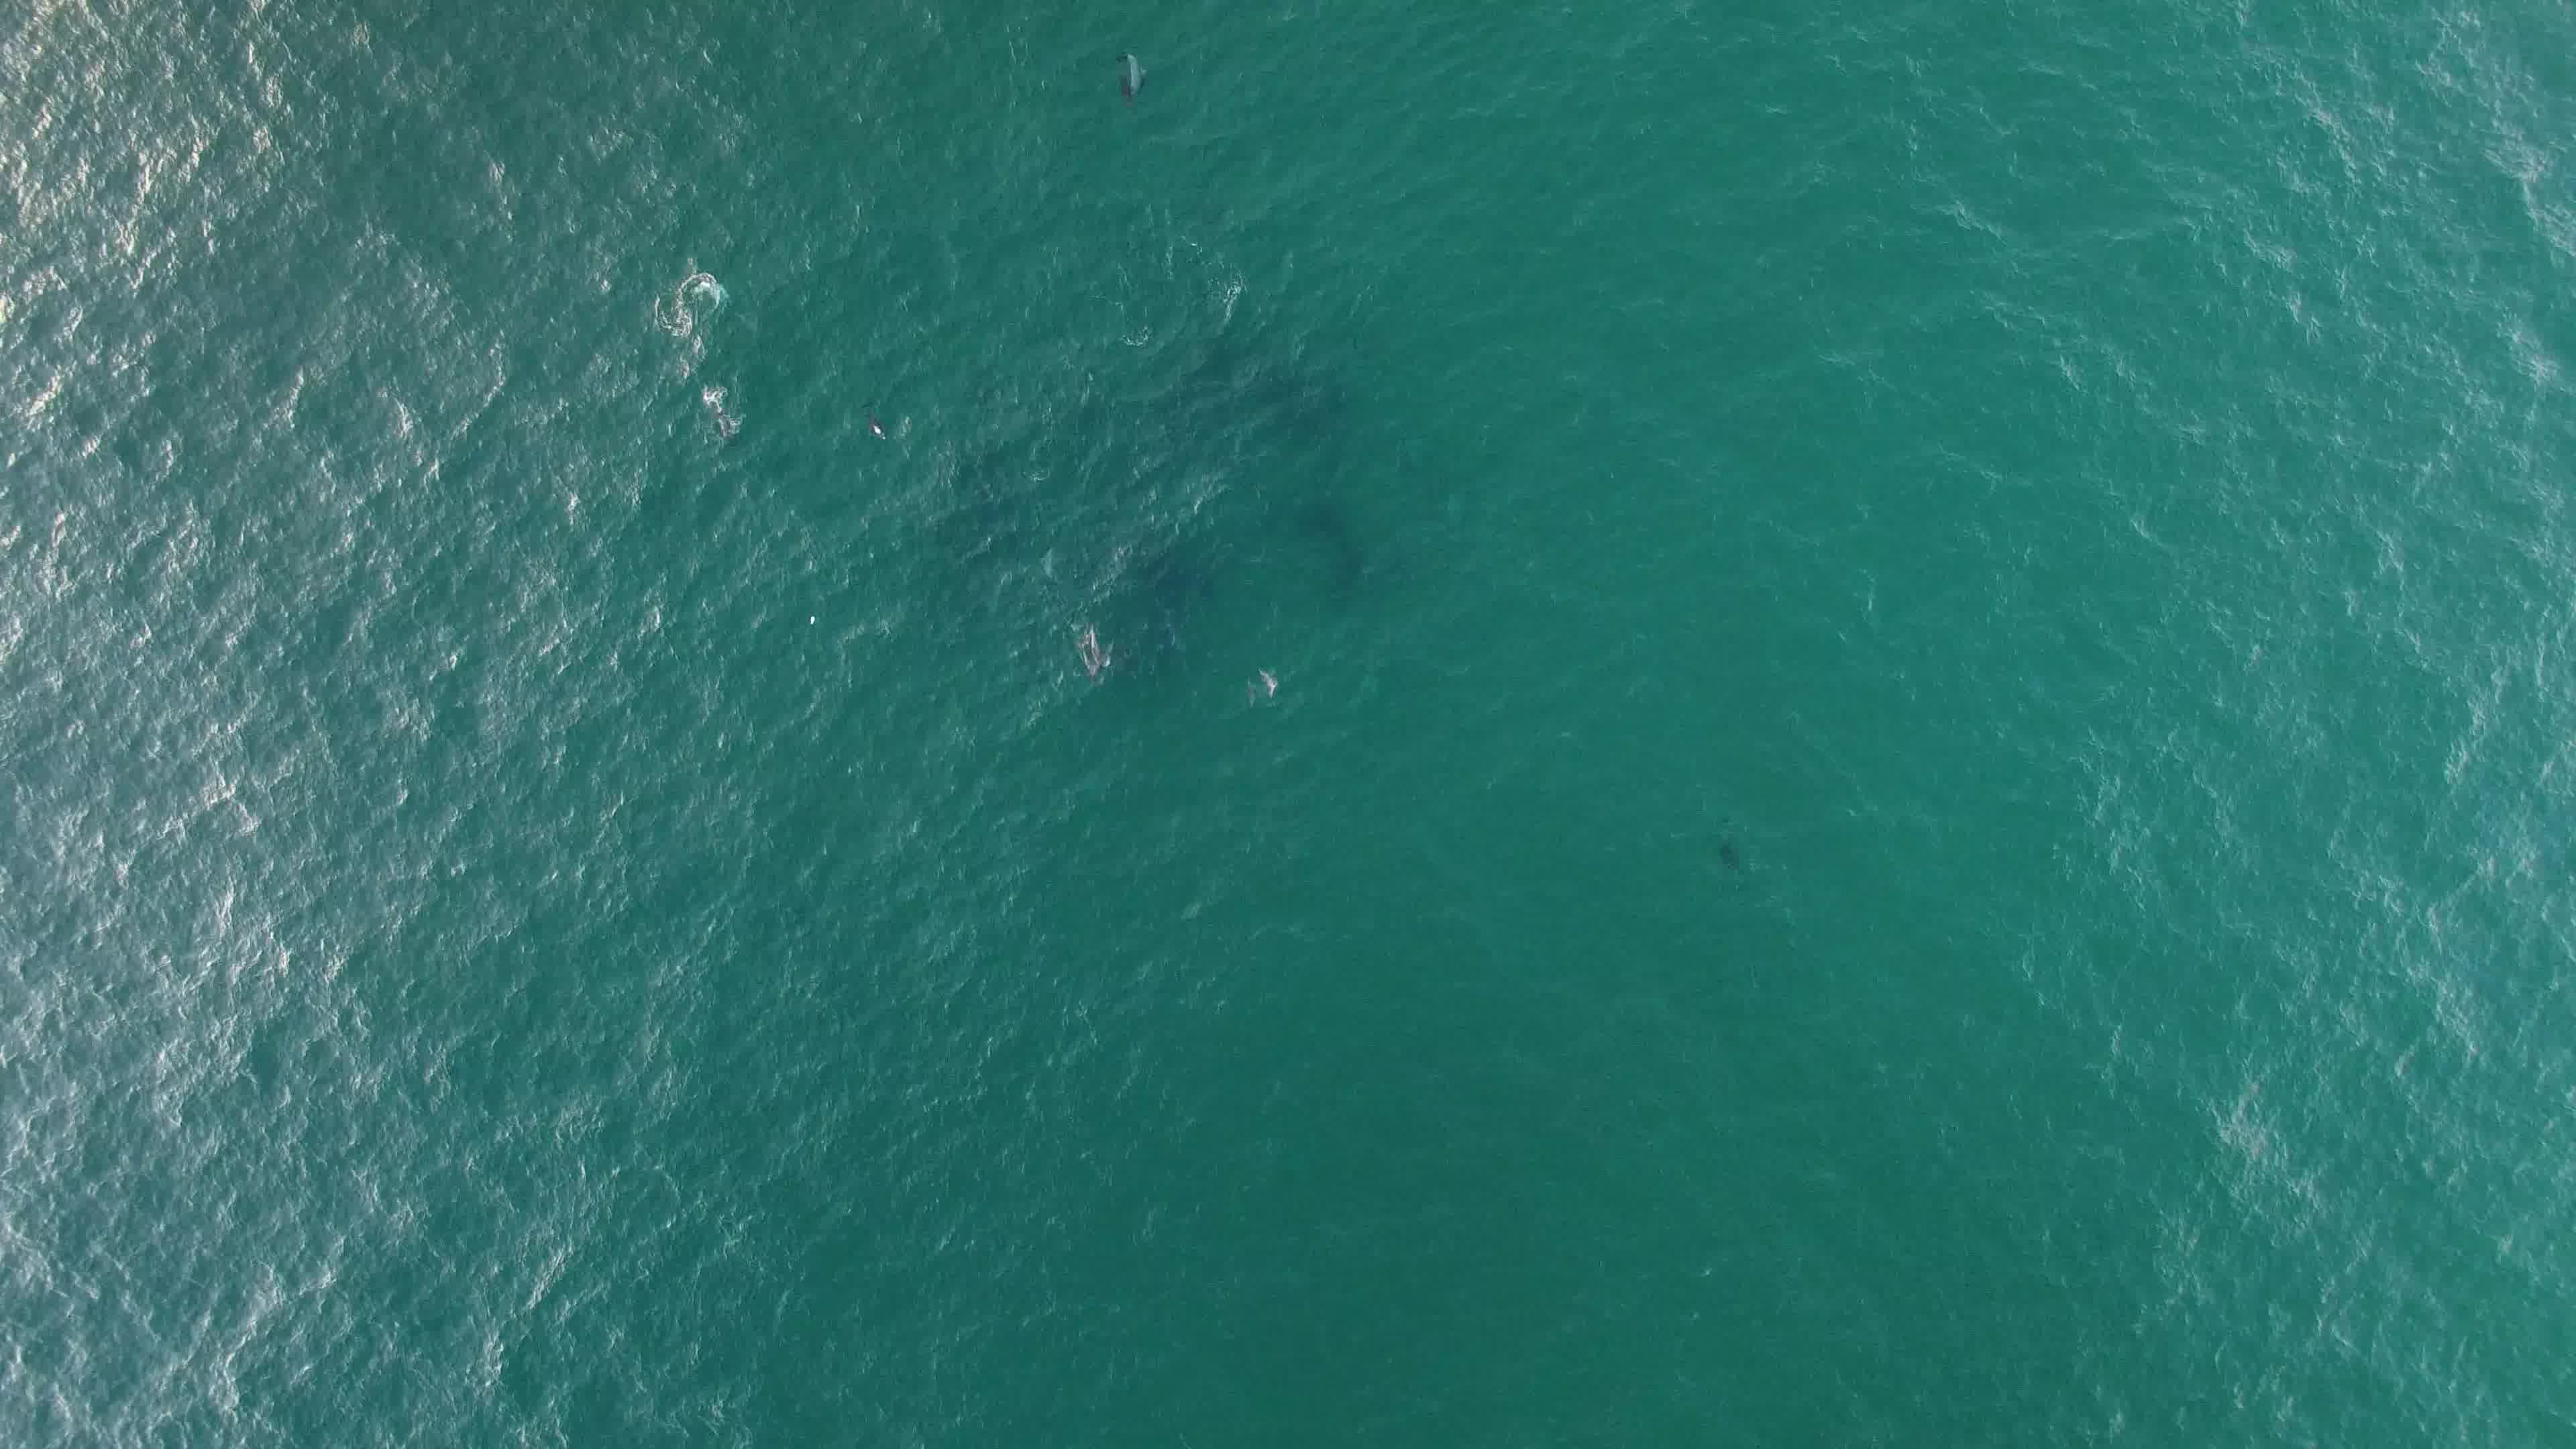dolphin: (1054, 587, 1115, 683), (1102, 30, 1152, 119)
